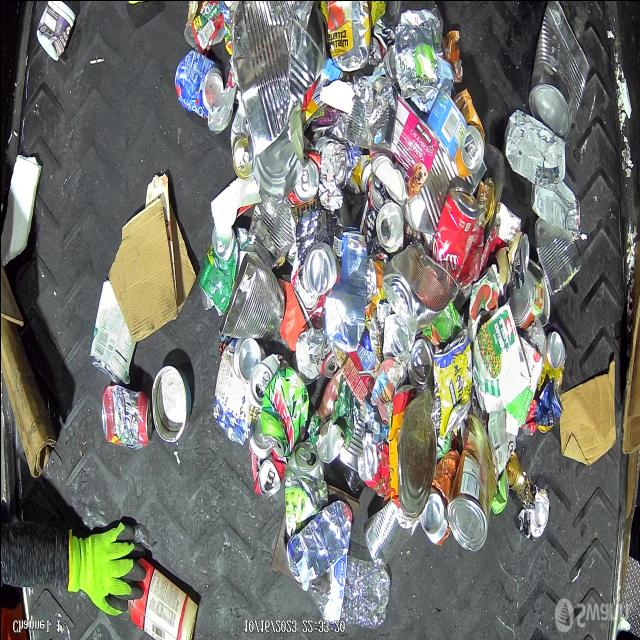can: (228, 0, 327, 156), (528, 0, 590, 142), (368, 91, 438, 204), (446, 413, 498, 551), (381, 238, 458, 330), (219, 251, 285, 342), (211, 336, 265, 444), (89, 277, 136, 383), (259, 364, 309, 458), (430, 184, 480, 274), (432, 326, 472, 434), (343, 73, 398, 151), (418, 448, 460, 546), (247, 188, 296, 270), (174, 48, 224, 120), (533, 218, 581, 292), (100, 383, 152, 449), (394, 24, 439, 100), (150, 362, 192, 442), (198, 226, 235, 315), (426, 86, 468, 162), (284, 438, 326, 512), (533, 335, 565, 432), (452, 88, 486, 178), (530, 179, 580, 239), (248, 422, 286, 498), (362, 500, 398, 568), (508, 267, 544, 328), (250, 352, 288, 407), (302, 241, 337, 295), (517, 484, 549, 542), (230, 104, 253, 180), (504, 232, 530, 298), (286, 155, 320, 205), (376, 202, 404, 262), (544, 332, 566, 376), (507, 448, 529, 492), (368, 172, 390, 214)
plastic_bottle: (300, 554, 390, 626)
